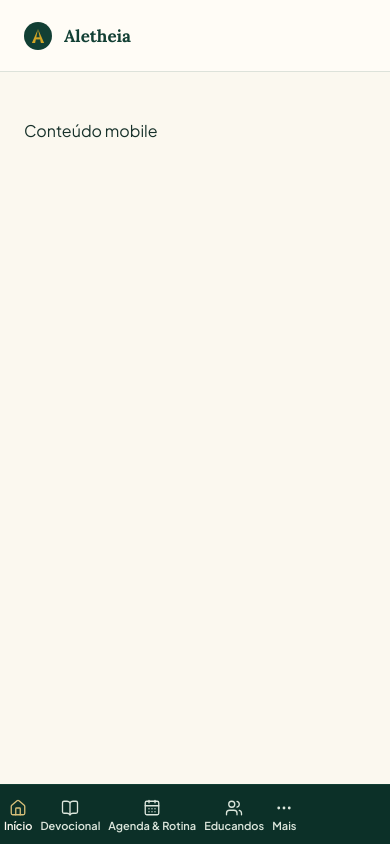
Scenario: ProductShell adapter › renders the profile inside the Mais overflow sheet
Click the button "Mais" at (284, 814), box [268, 785, 300, 843]
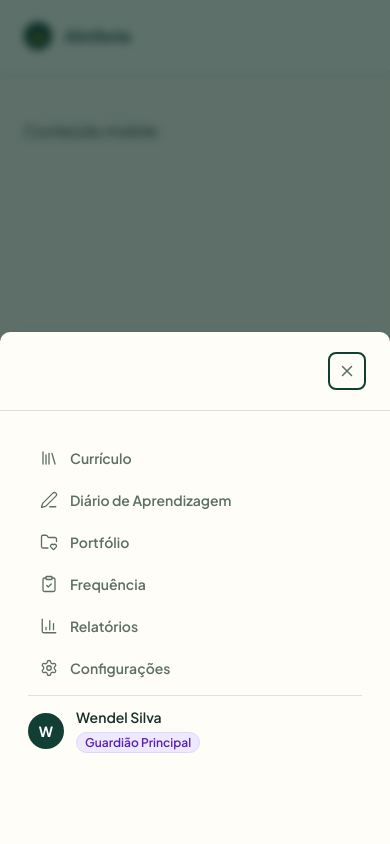
Now the text "Wendel Silva" is shown, box [76, 708, 162, 726]
Now the text "Guardião Principal" is shown, box [76, 732, 200, 753]
